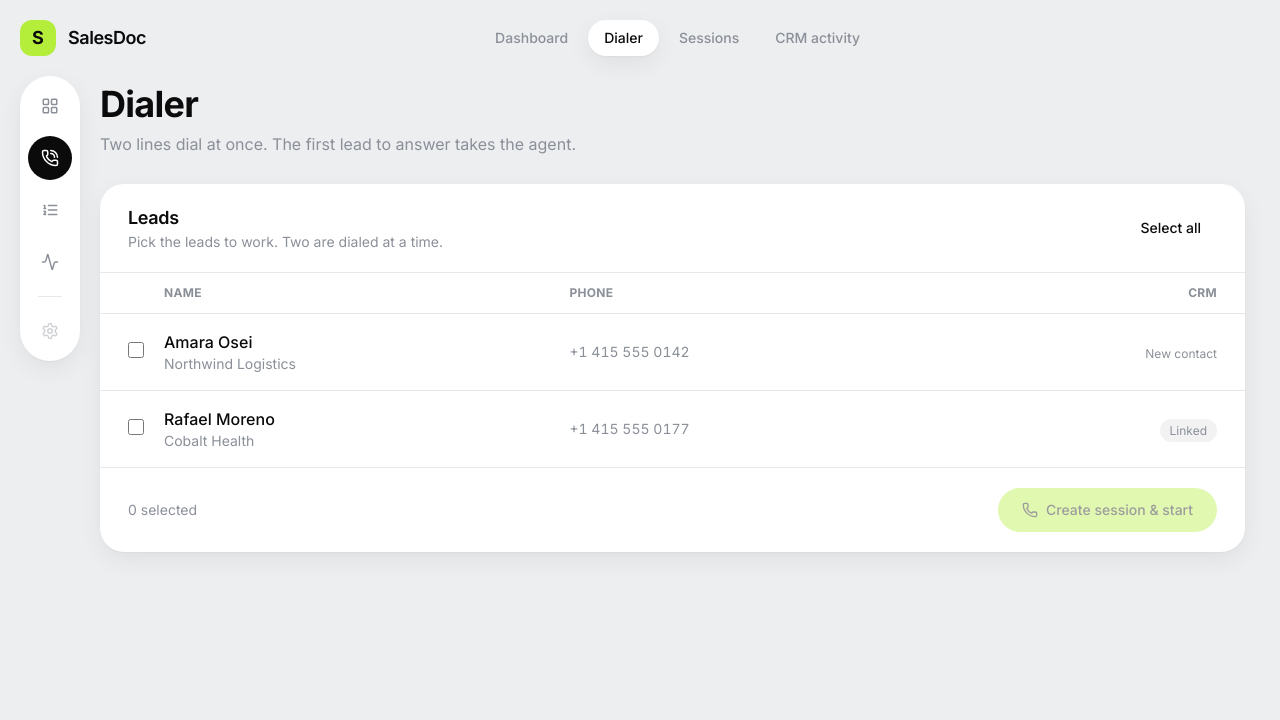
it: lead selection › enables the start button only once a lead is selected
Expected: the button "Create session & start" is disabled, [998, 488, 1217, 532]
Click the checkbox labelled "Amara Osei Northwind Logistics" at (136, 350), box [128, 342, 144, 358]
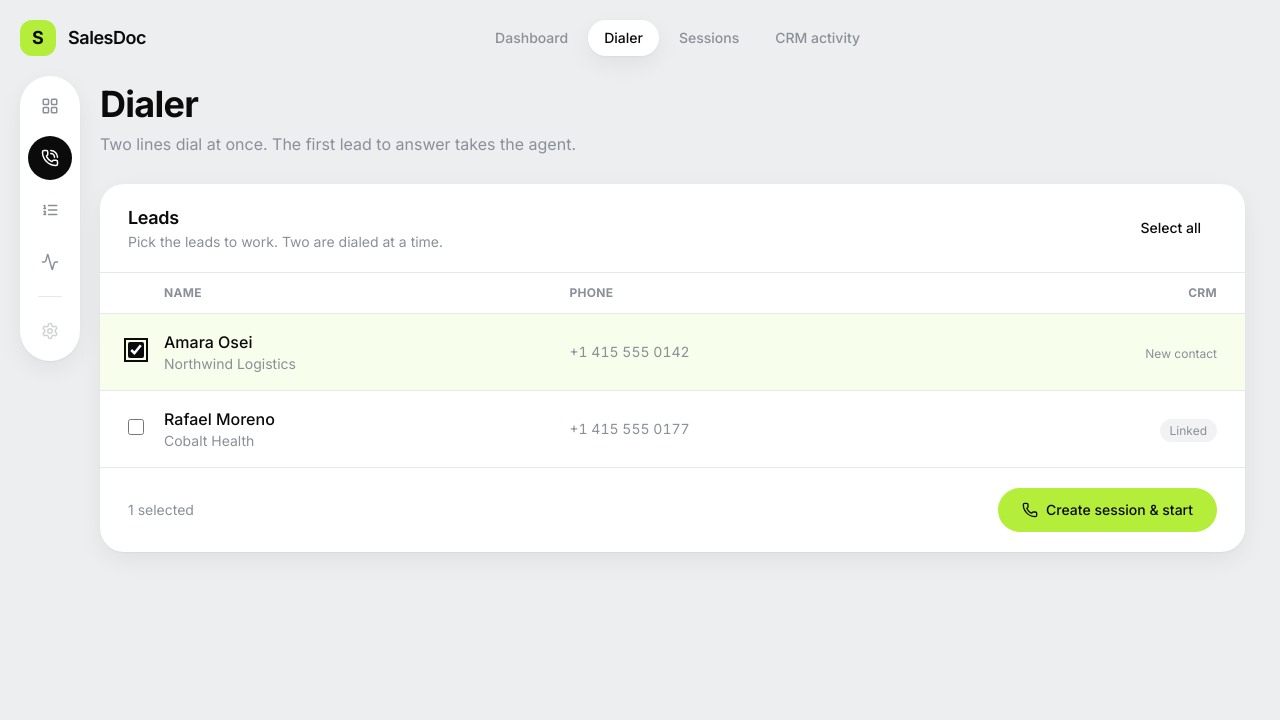
Expected: the button "Create session & start" is enabled, [998, 488, 1217, 532]
